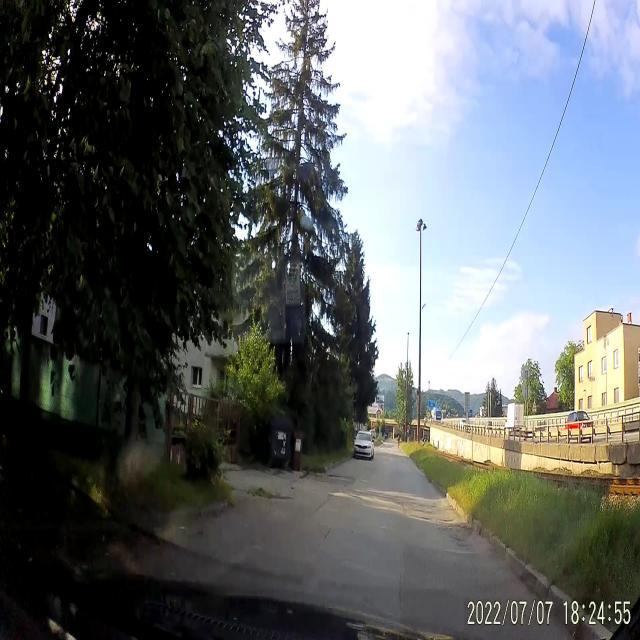Pothole: (443, 517, 472, 551)
